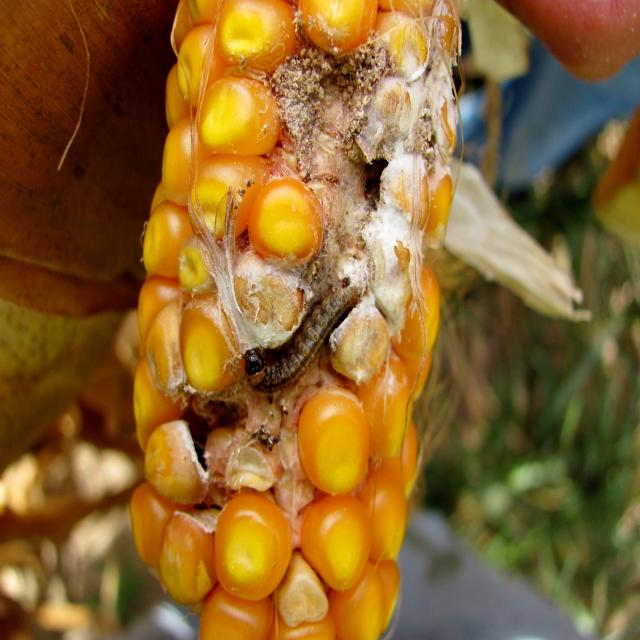cornborer-Larva-: (233, 264, 377, 396)
